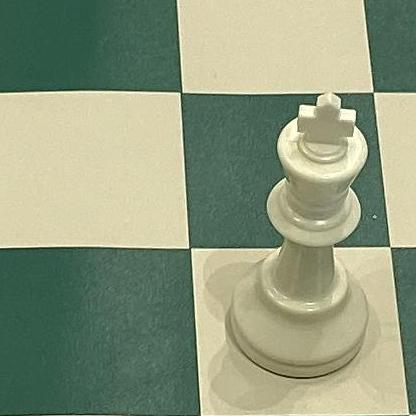white-king: (222, 92, 373, 380)
